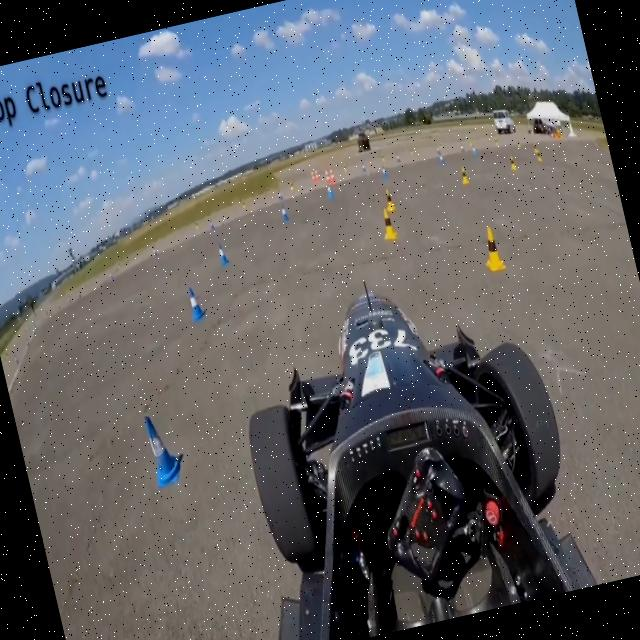blue_cone: (138, 408, 186, 489), (186, 283, 208, 322), (215, 241, 230, 266), (280, 205, 288, 222), (326, 184, 334, 199), (381, 165, 388, 180), (438, 153, 446, 166), (276, 188, 284, 201), (208, 218, 214, 230)
large_orange_cone: (328, 167, 336, 184), (323, 169, 331, 184), (309, 168, 316, 184), (314, 168, 320, 182)
yellow_cone: (476, 221, 508, 278), (378, 205, 398, 242), (382, 188, 397, 213), (458, 164, 470, 184), (508, 154, 518, 172), (534, 148, 542, 162), (532, 142, 538, 154)
